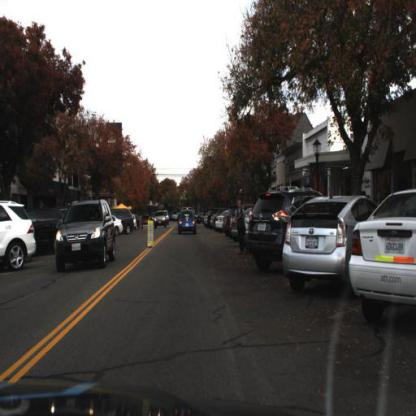car: (283, 196, 384, 301), (350, 190, 416, 327), (245, 187, 327, 276), (53, 198, 117, 271), (10, 209, 72, 260), (1, 202, 38, 278), (110, 206, 136, 240), (178, 209, 199, 236), (154, 210, 169, 231)
pedestrian: (233, 199, 249, 259)
